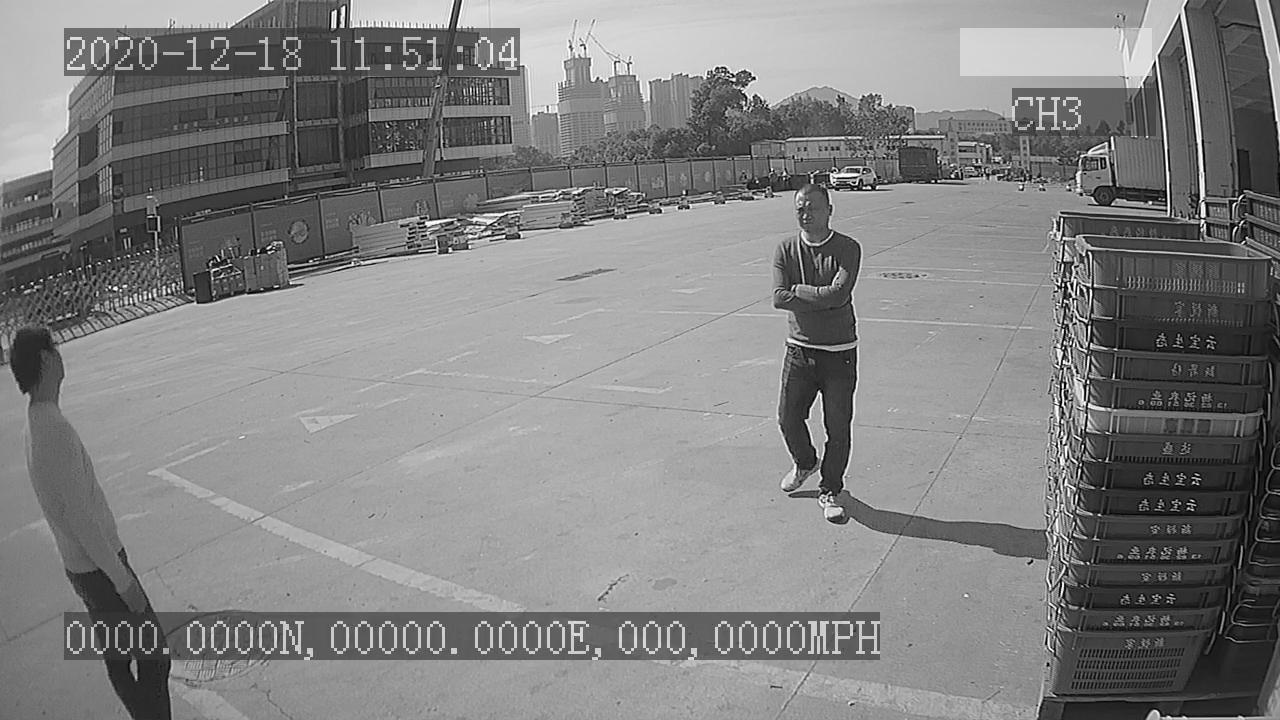person: (763, 177, 868, 529)
